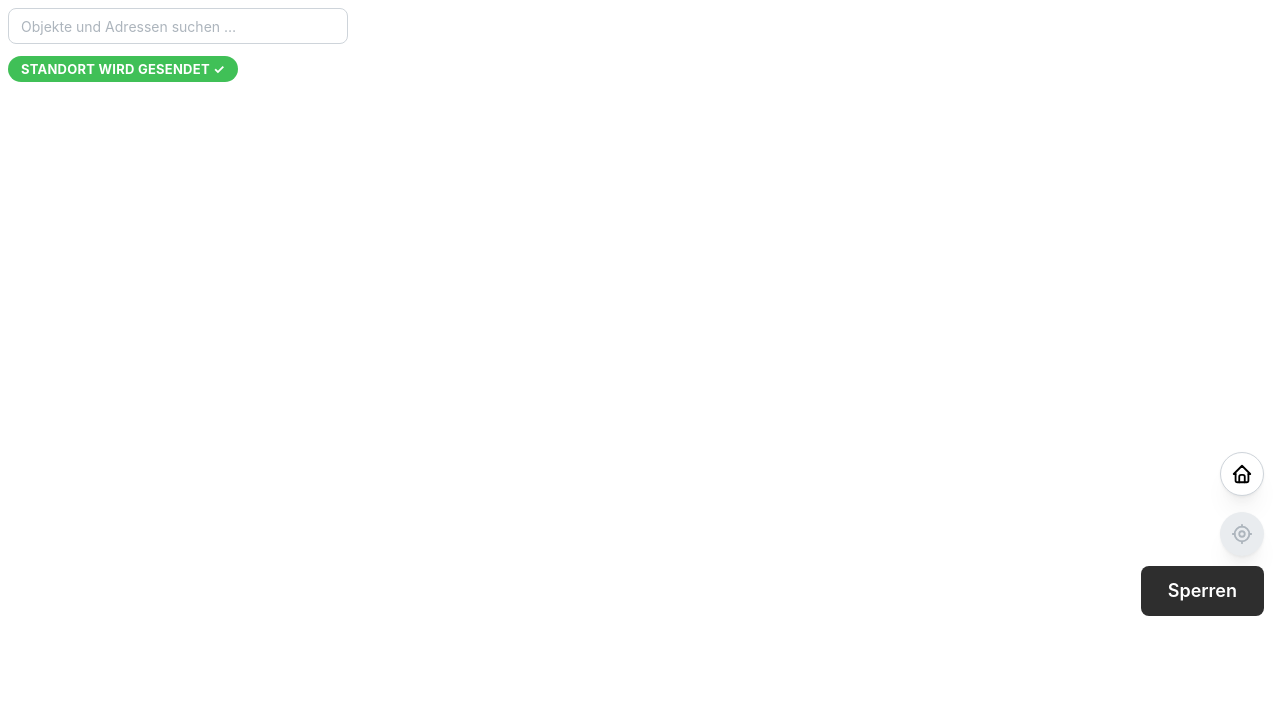
Test: DeviceView › keeps the location watch running while the wipe lock is active
Click the button "Sperren" at coordinates (1202, 591), box x1=1141 y1=566 x2=1264 y2=616
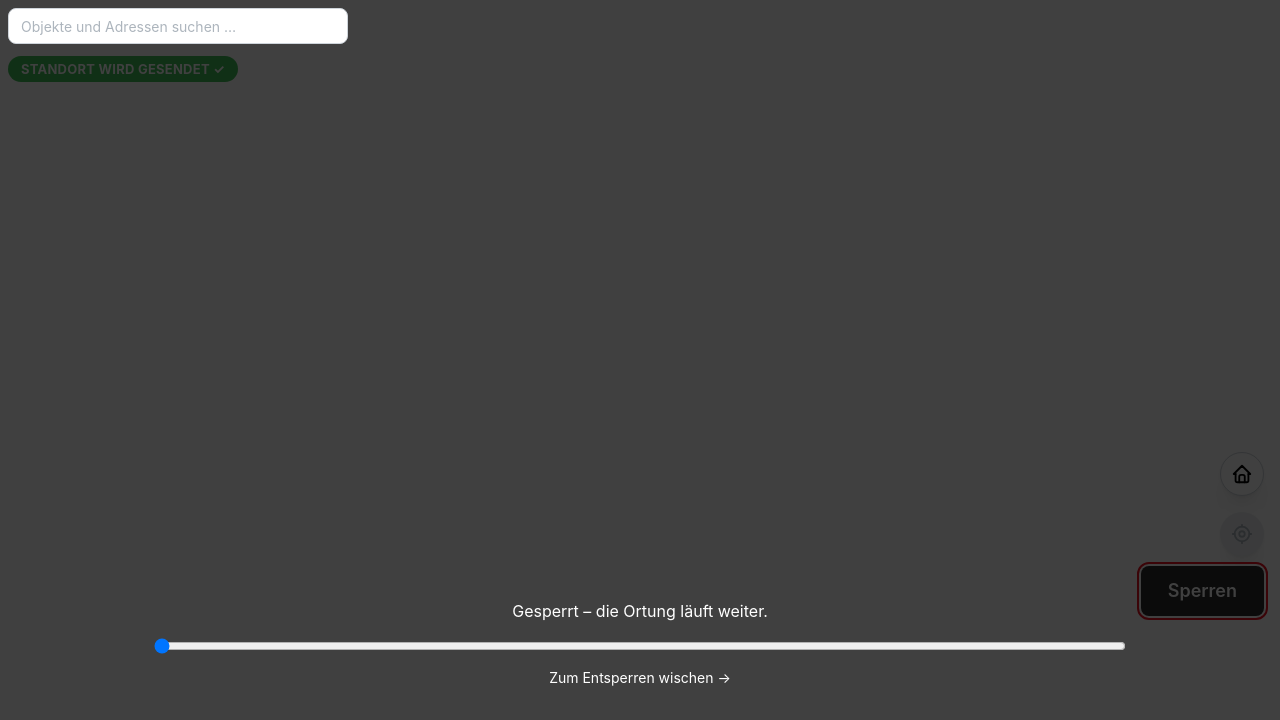
Expected: the text "Standort wird gesendet ✓" is shown, x1=21 y1=57 x2=225 y2=81
Result: the element with test id "wipe-lock-overlay" is shown
Result: the element with test id "wipe-lock-overlay" shows "die Ortung läuft weiter" at x1=512 y1=601 x2=768 y2=621
